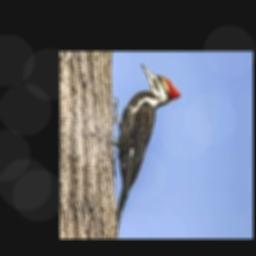Woodpecker: (112, 63, 181, 233)
